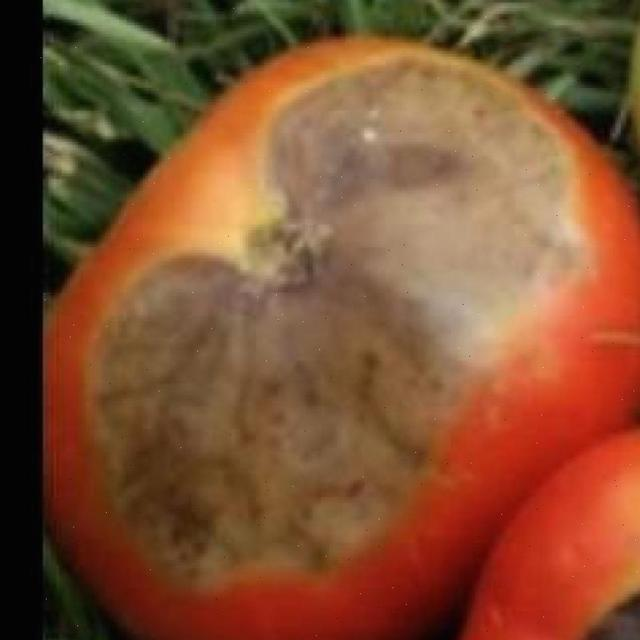Blossom End Rot Fruit: (66, 53, 394, 400)
